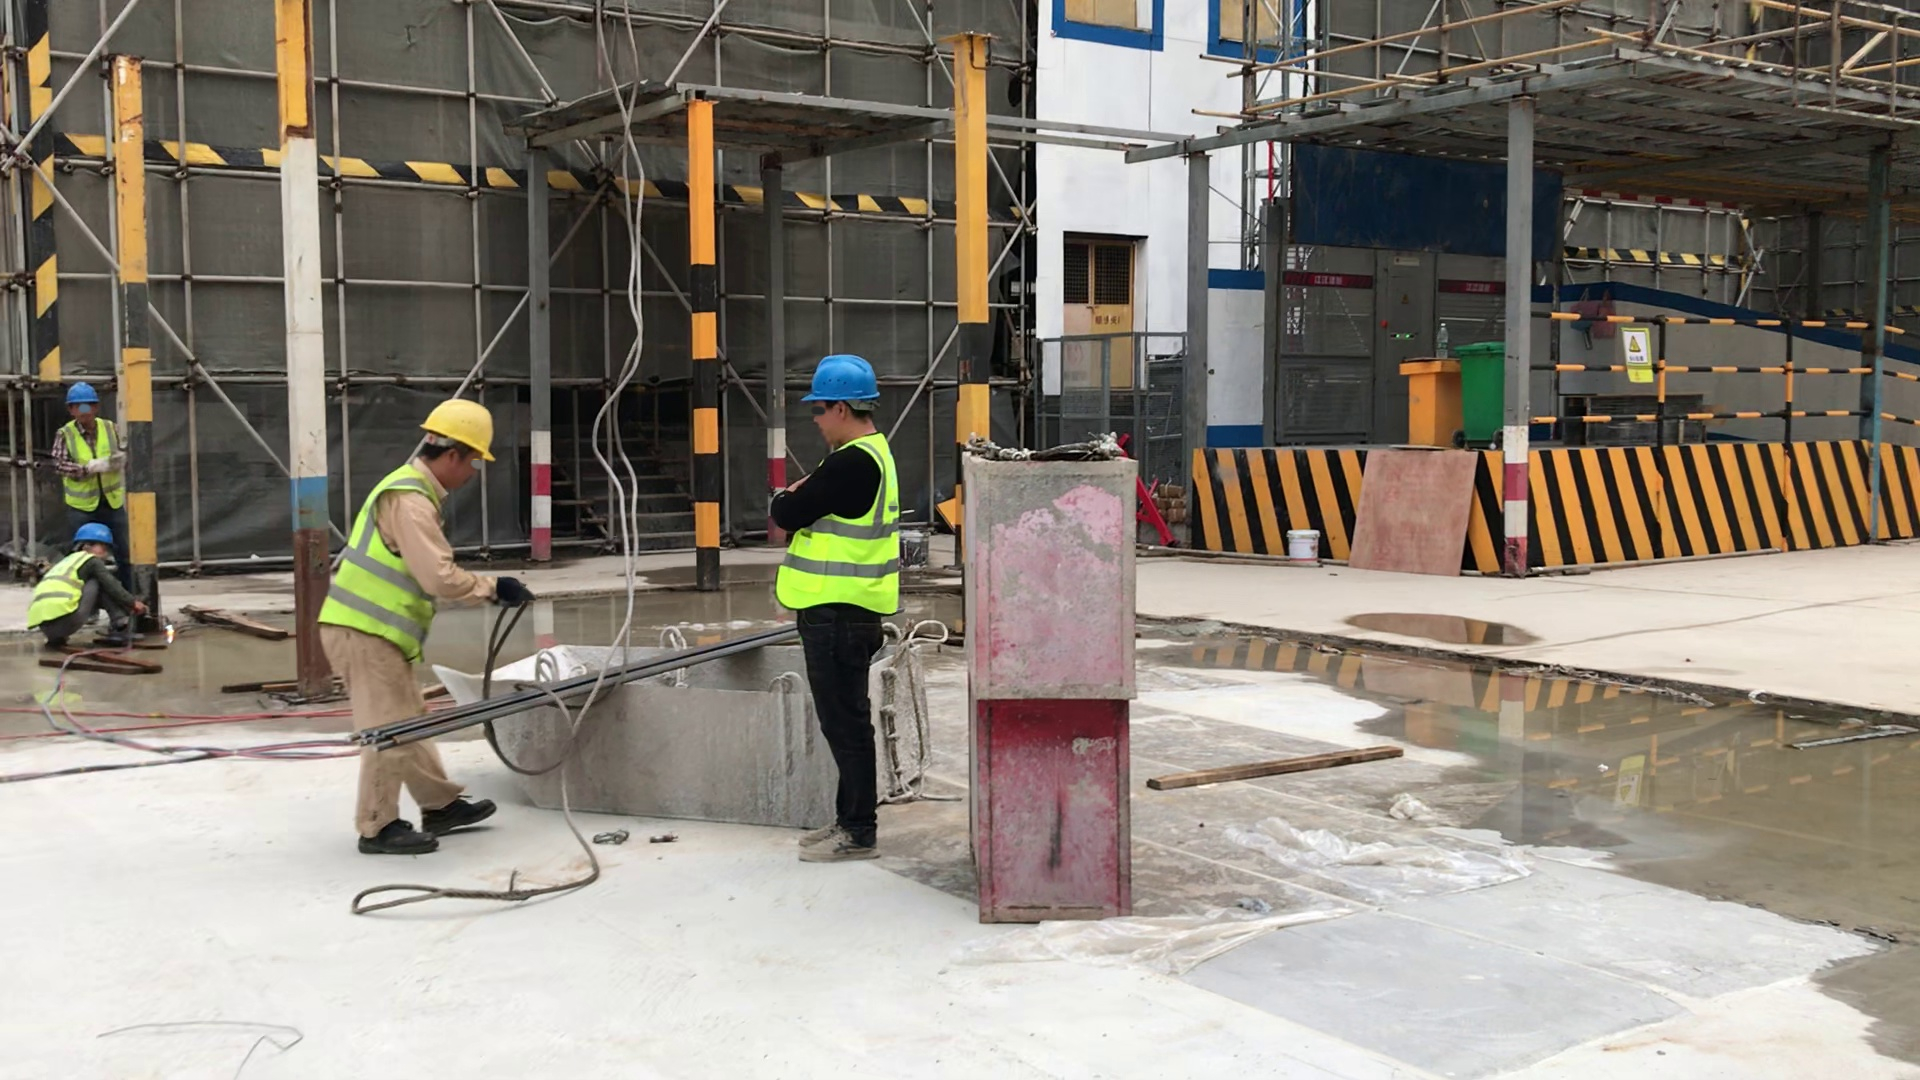helmet: (411, 396, 508, 469), (794, 354, 896, 406), (58, 372, 115, 406), (65, 518, 124, 547)
person: (316, 388, 528, 862), (771, 351, 943, 866), (25, 520, 154, 681), (43, 372, 138, 541)
vest: (317, 458, 457, 677), (771, 434, 914, 620), (20, 542, 102, 645), (52, 414, 130, 505)
